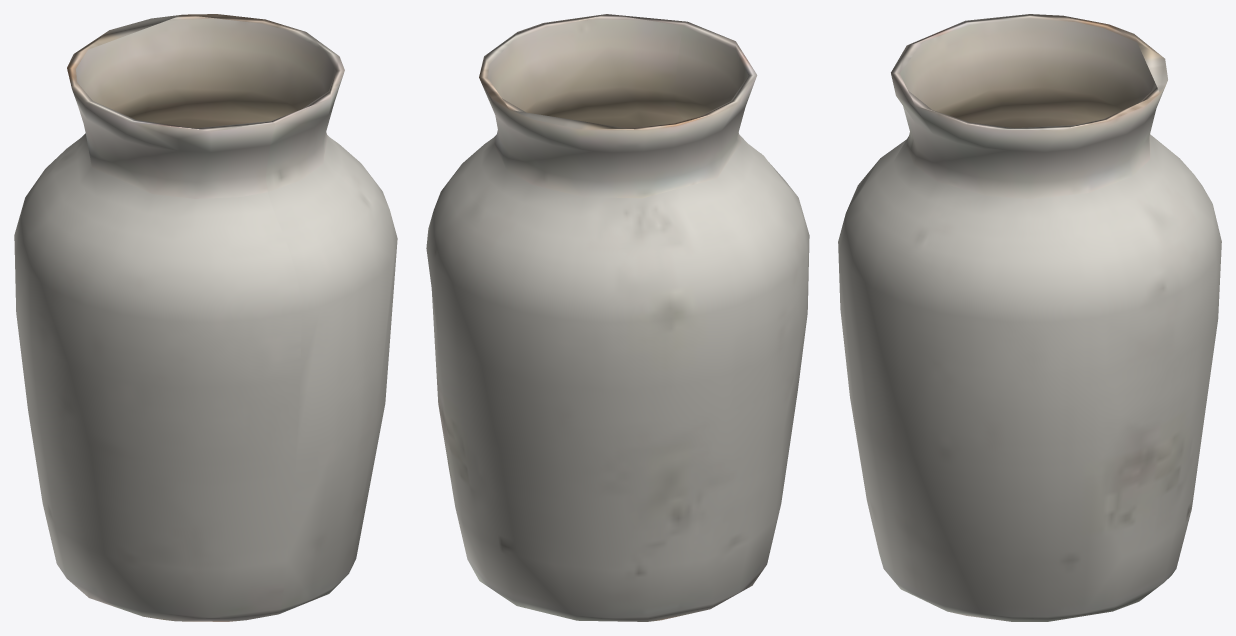
The model's file is vase2.glb.
3 views of the same model, side by side, from view 1: azimuth 30°, elevation 25°; view 2: azimuth 150°, elevation 25°; view 3: azimuth 270°, elevation 25° (orthographic).
Parts seen in each view (by area): view 1: ceramic_vase_02; view 2: ceramic_vase_02; view 3: ceramic_vase_02.
Part boxes in pixels (x1,y1,x2,y2): ceramic_vase_02: [14, 14, 397, 621]; ceramic_vase_02: [426, 14, 809, 621]; ceramic_vase_02: [838, 14, 1221, 621].
Size of the model in its own units: 0.216 by 0.3077 by 0.2176.
1 material, 1 textured.
